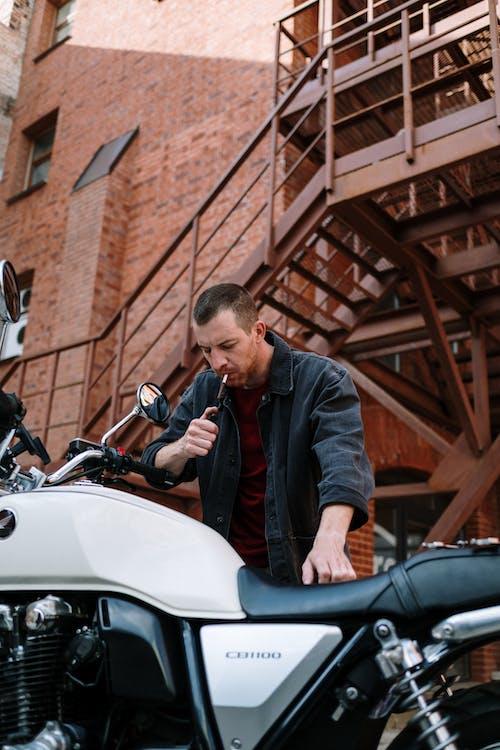cigarette: (213, 370, 230, 401)
